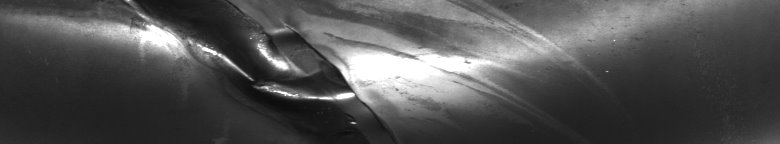ke: (69, 4, 545, 124)
